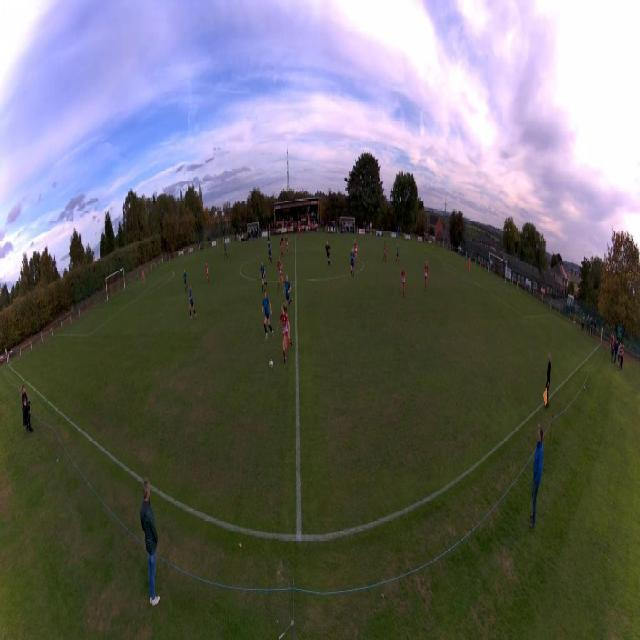ball: (269, 358, 273, 369)
player: (276, 302, 292, 363), (261, 288, 275, 340), (283, 274, 294, 309), (277, 256, 286, 292), (189, 284, 197, 320), (260, 260, 268, 291), (325, 240, 332, 269), (401, 263, 406, 298), (424, 261, 429, 290), (354, 239, 359, 263), (351, 249, 355, 278), (205, 262, 209, 287), (183, 268, 187, 293), (383, 240, 387, 264), (268, 241, 272, 263), (395, 244, 399, 265), (280, 237, 284, 257), (285, 235, 289, 254), (224, 242, 228, 259), (142, 270, 146, 287), (468, 257, 471, 276), (298, 226, 301, 242)
